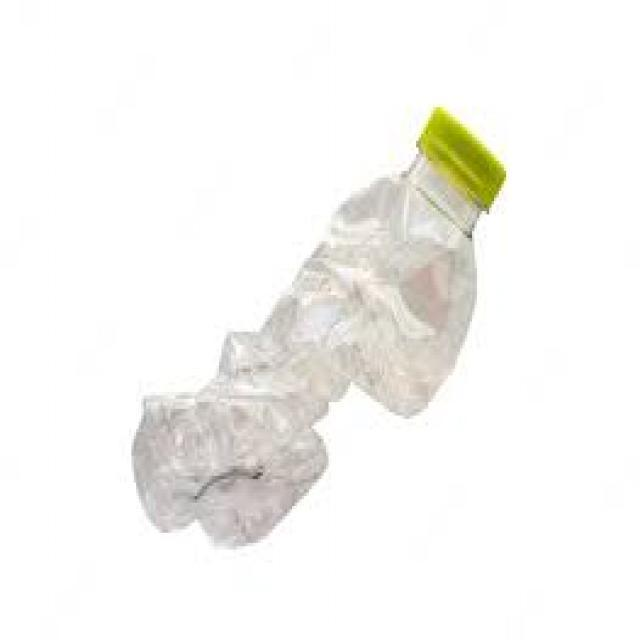BIODEGRADABLE: (126, 100, 515, 552)
